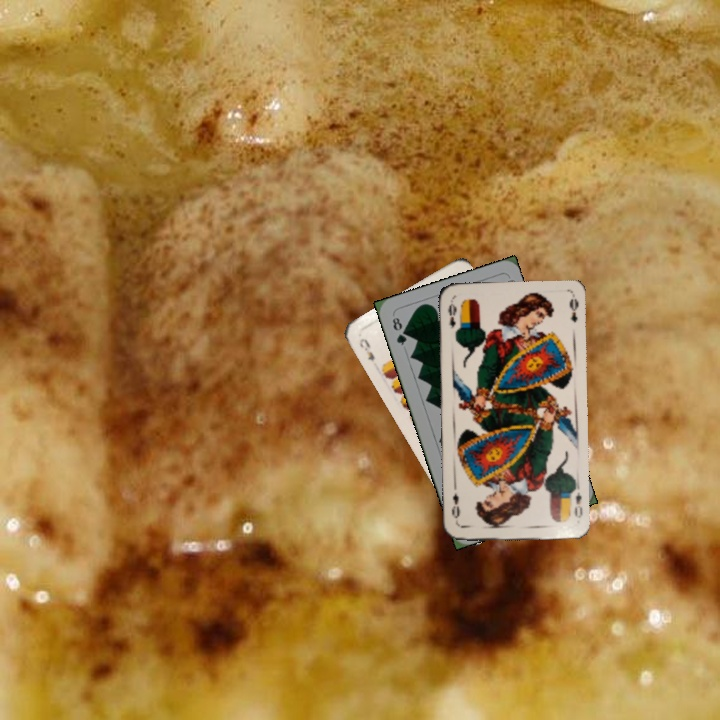E9: (355, 334, 377, 363)
EO: (565, 483, 585, 521), (444, 297, 461, 337)
G8: (388, 313, 409, 348)
